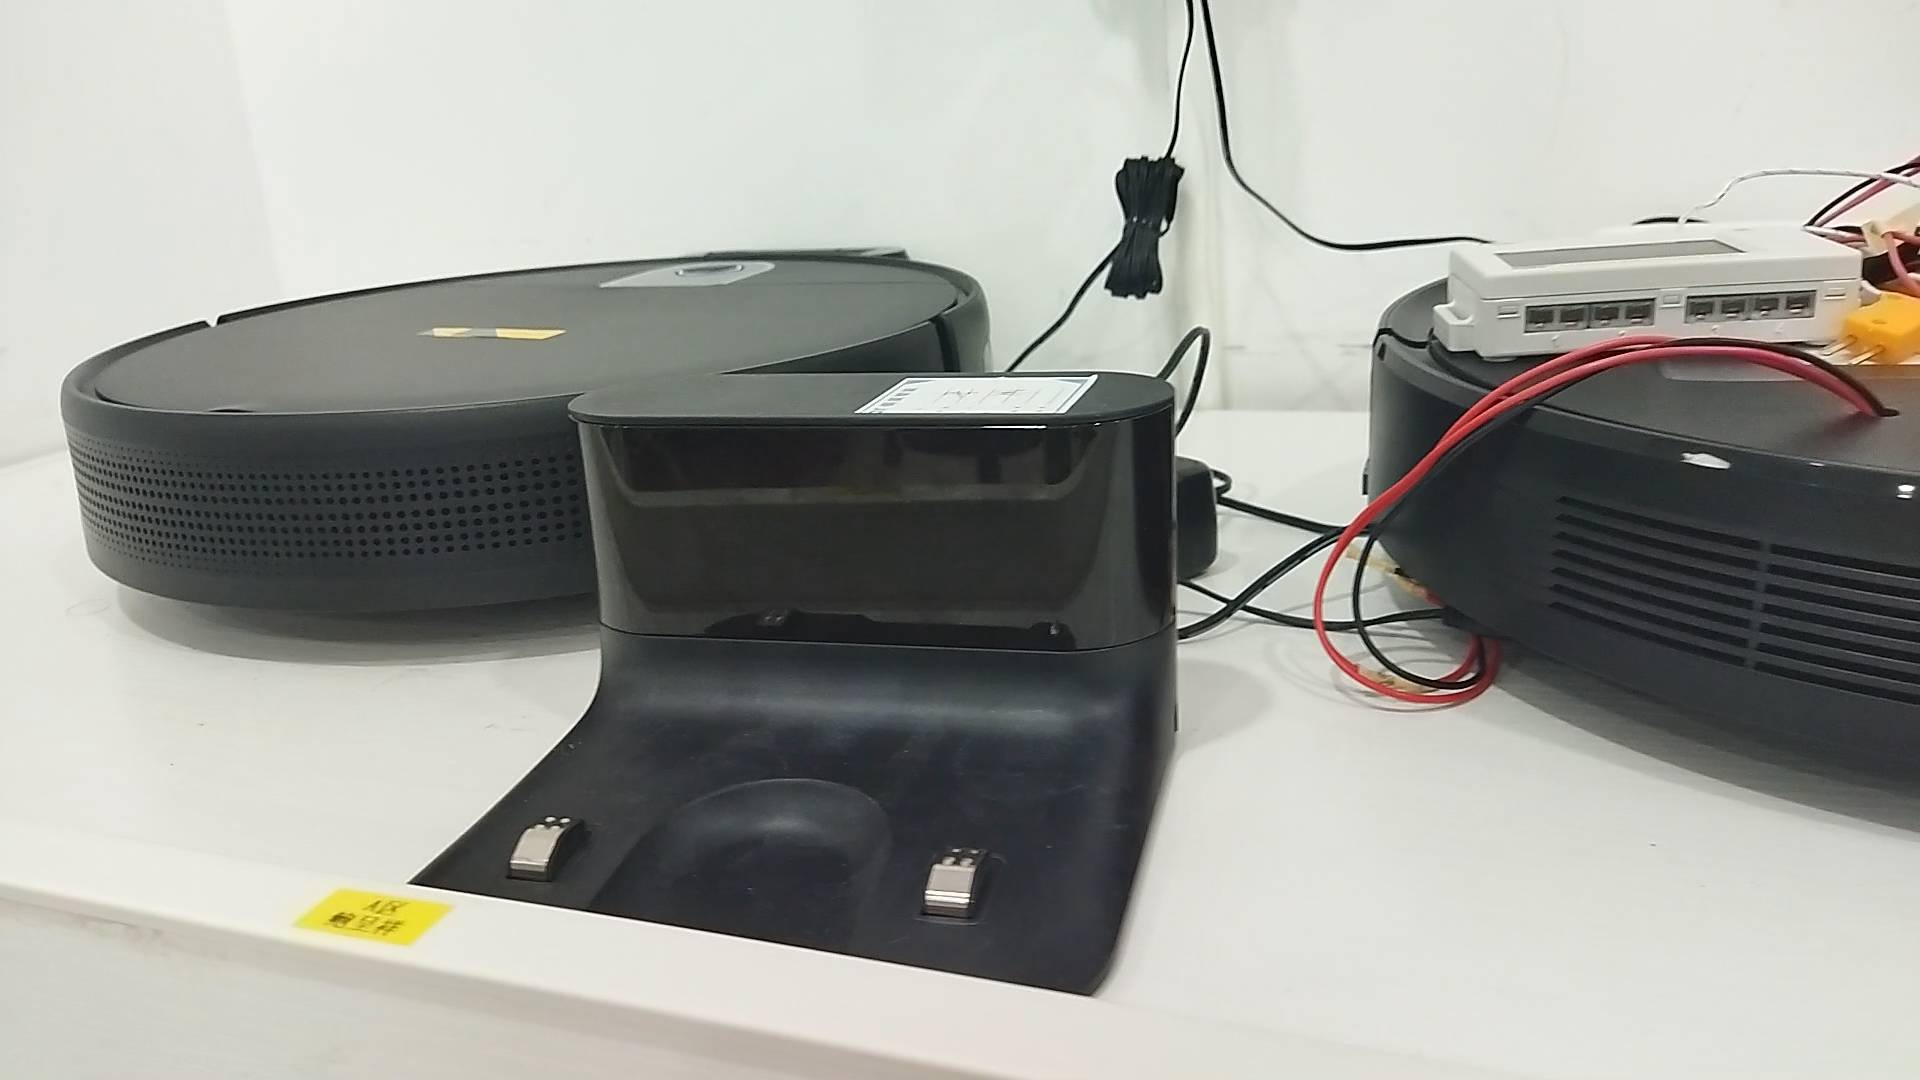recharge seat: (402, 371, 1187, 1000)
